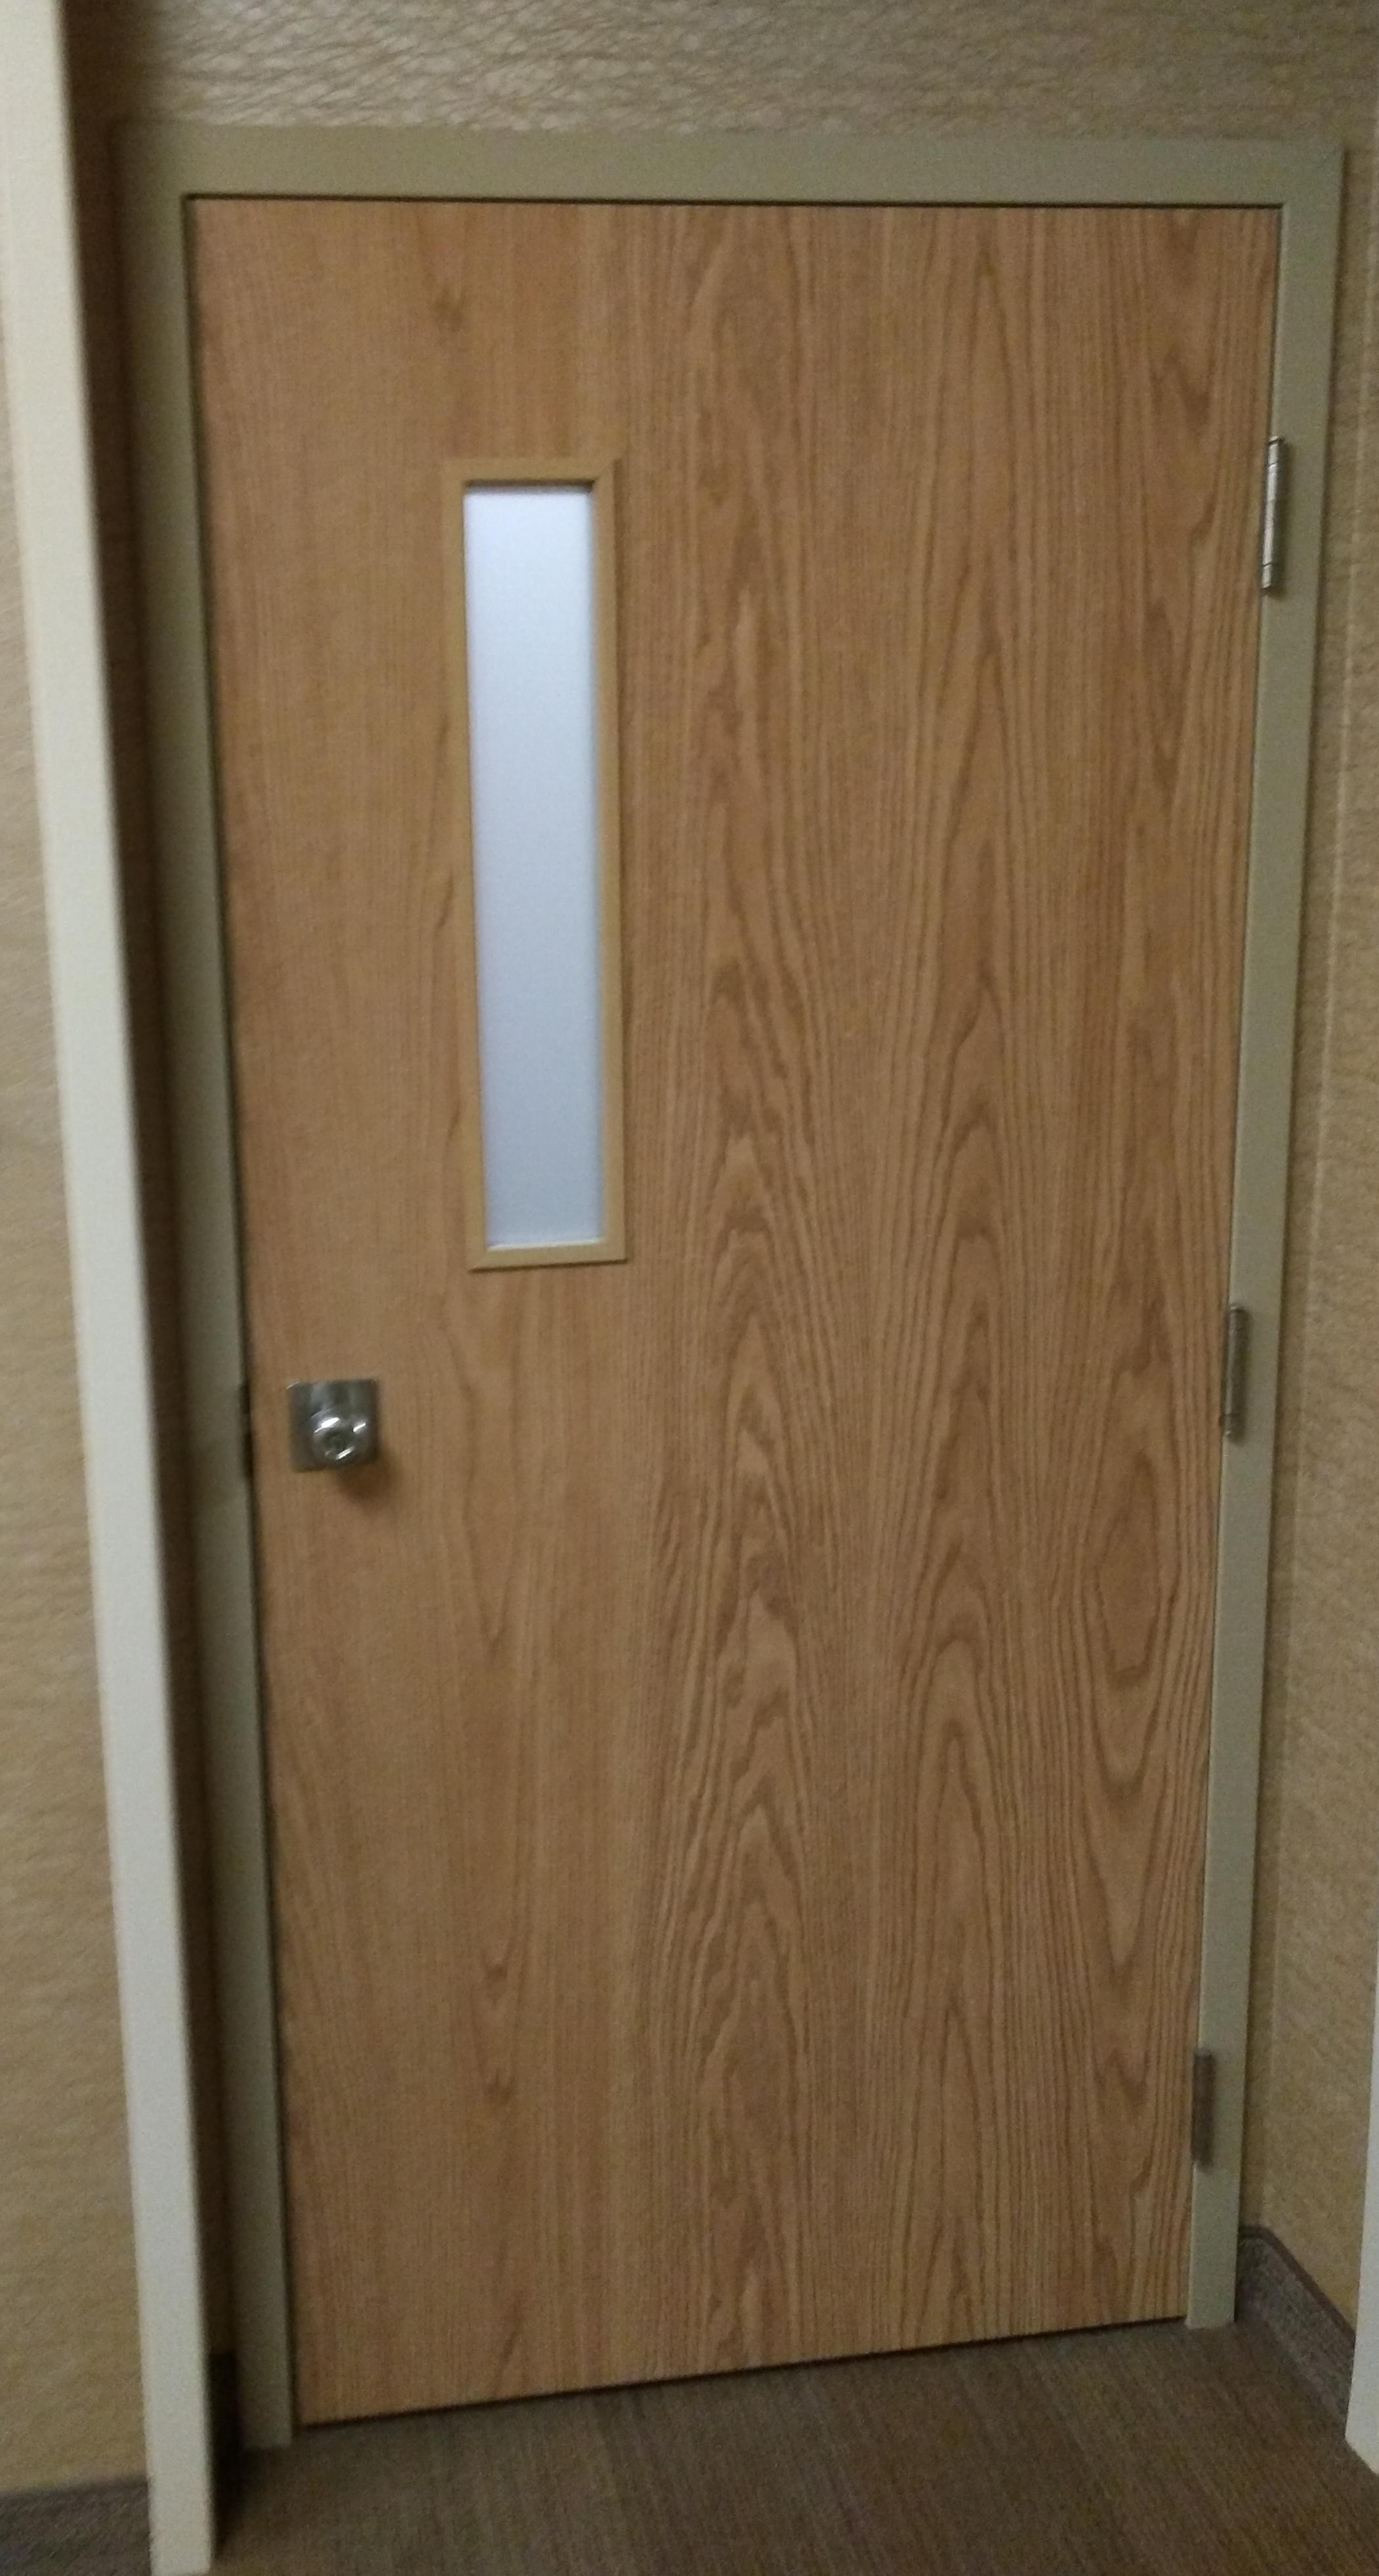door: (260, 232, 1190, 2315)
handle: (306, 1385, 376, 1506)
